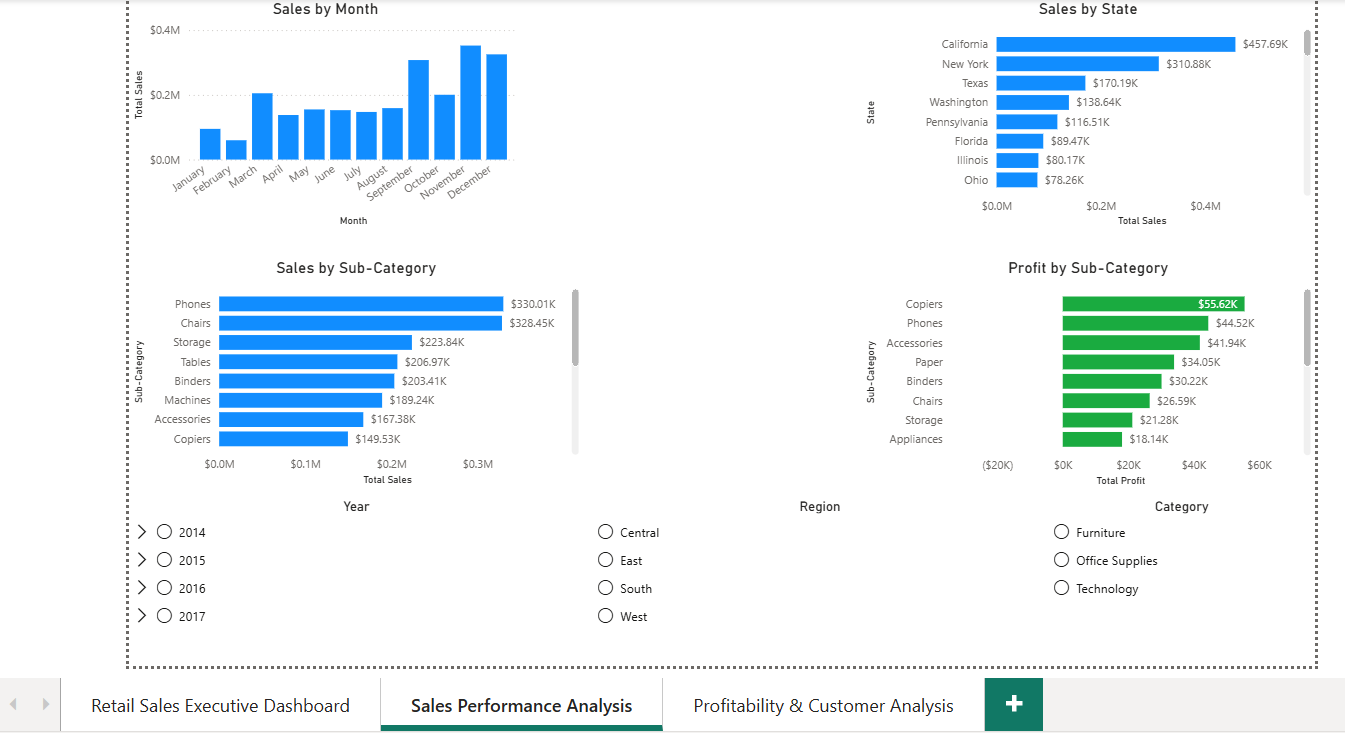

The dashboard page shown, as its layout file describes it:
{"tool":"powerbi","page":{"name":"Sales Performance Analysis","canvas":[1280,720],"ordinal":1},"visuals":[{"type":"clusteredColumnChart","title":" Sales by Month ","fields":{"Category":["Retail Sales Dataset.Month Name"],"Y":["Measures (2).Total Sales"]},"box":[0,0,424.2,250],"z":0},{"type":"clusteredBarChart","title":"Sales by State","fields":{"Category":["Retail Sales Dataset.State"],"Y":["Measures (2).Total Sales"]},"box":[790.2,0,490.6,250],"z":1000},{"type":"clusteredBarChart","title":"Sales by Sub-Category","fields":{"Category":["Retail Sales Dataset.Sub-Category"],"Y":["Measures (2).Total Sales"]},"box":[0,280.1,490.6,249.4],"z":2000},{"type":"clusteredBarChart","title":"Profit by Sub-Category","fields":{"Category":["Retail Sales Dataset.Sub-Category"],"Y":["Measures (2).Total Profit"]},"box":[790.2,280,490.6,250],"z":3000},{"type":"listSlicer","fields":{"Values":["Retail Sales Dataset.Order Date.Variation.Date Hierarchy.Year","Retail Sales Dataset.Order Date.Variation.Date Hierarchy.Quarter","Retail Sales Dataset.Order Date.Variation.Date Hierarchy.Month","Retail Sales Dataset.Order Date.Variation.Date Hierarchy.Day"]},"box":[0,539,491,181],"z":4000},{"type":"listSlicer","fields":{"Values":["Retail Sales Dataset.Region"]},"box":[501,539,491,181],"z":5000},{"type":"listSlicer","fields":{"Values":["Retail Sales Dataset.Category"]},"box":[992,539,288,181],"z":6000}]}

Visuals, with their boxes on the page's 1280x720 design canvas (x1, y1, x2, y2). These are canvas units, not pixel positions in the 1345x733 screenshot, which may show the page scaled, cropped or inside an application window:
" Sales by Month " clusteredColumnChart: l=0, t=0, r=424, b=250
"Sales by State" clusteredBarChart: l=790, t=0, r=1281, b=250
"Sales by Sub-Category" clusteredBarChart: l=0, t=280, r=491, b=530
"Profit by Sub-Category" clusteredBarChart: l=790, t=280, r=1281, b=530
listSlicer - Retail Sales Dataset.Order Date.Variation.Date Hierarchy.Year x Retail Sales Dataset.Order Date.Variation.Date Hierarchy.Quarter: l=0, t=539, r=491, b=720
listSlicer - Retail Sales Dataset.Region: l=501, t=539, r=992, b=720
listSlicer - Retail Sales Dataset.Category: l=992, t=539, r=1280, b=720
